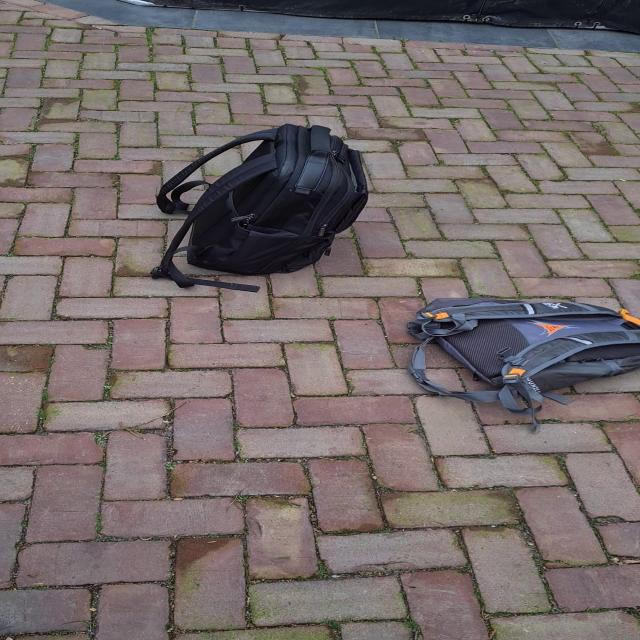backpack: (151, 122, 375, 294), (397, 295, 639, 408)
